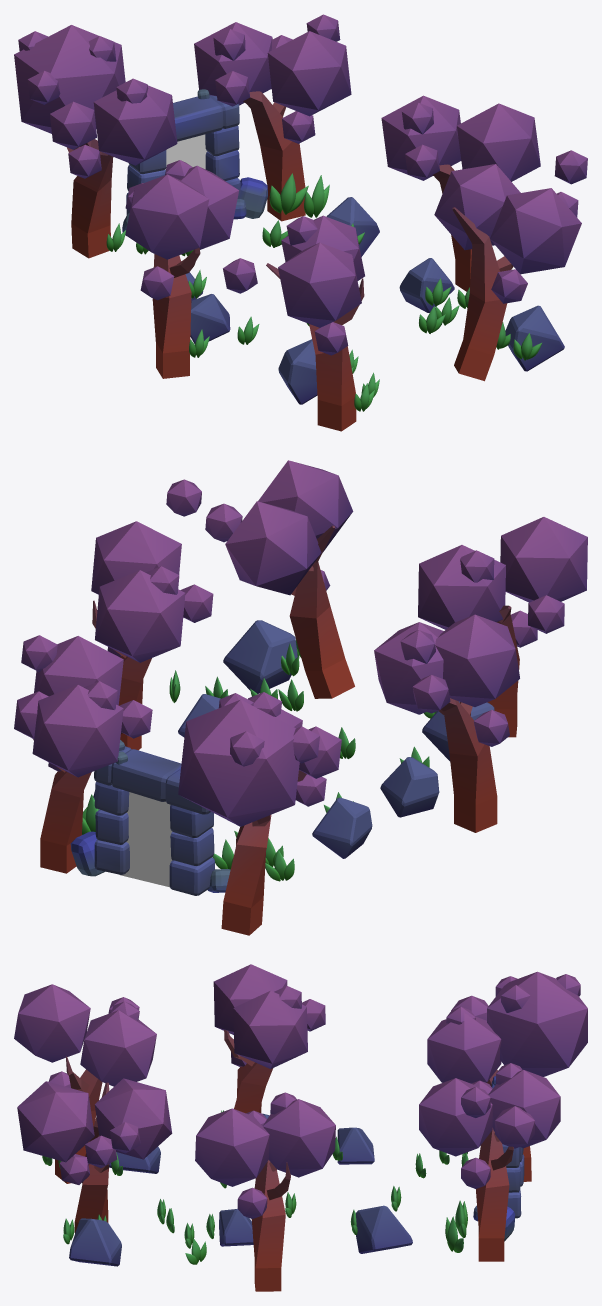
File: ПОЛЕ .fbx
The picture shows the model from 3 angles, top to bottom: view 1: azimuth 30°, elevation 25°; view 2: azimuth 150°, elevation 25°; view 3: azimuth 270°, elevation 25°; orthographic projection. The views are drawn at different scales.
Parts seen in each view (by area): view 1: Icosphere.005, Cube.018, Icosphere.031, Icosphere.001, Icosphere.021, Icosphere.026, Cube.028, Icosphere.004, Icosphere.016, Icosphere.030, Cube.026, Cube.015 (+32 smaller); view 2: Cube.018, Icosphere.005, Icosphere.030, Icosphere.015, Icosphere, Icosphere.026, Icosphere.021, Cube.028, Icosphere.025, Cube.026, Icosphere.031, Cube.017 (+29 smaller); view 3: Icosphere.005, Icosphere.031, Icosphere.020, Icosphere.016, Icosphere.026, Icosphere.025, Icosphere.015, Icosphere.004, Icosphere.030, Icosphere.001, Cube.025, Cube.015 (+22 smaller).
Part boxes in pixels (box(x1,y1,x2,y2)): Icosphere.005: box(14, 25, 125, 133); Cube.018: box(122, 89, 267, 232); Icosphere.031: box(490, 188, 581, 274); Icosphere.001: box(267, 31, 351, 116); Icosphere.021: box(125, 174, 209, 259); Icosphere.026: box(278, 242, 361, 327); Cube.028: box(452, 207, 513, 381); Icosphere.004: box(93, 85, 177, 165); Icosphere.016: box(457, 103, 540, 181); Icosphere.030: box(434, 164, 520, 250); Cube.026: box(152, 247, 200, 378); Cube.015: box(243, 91, 305, 221); Cube.018: box(70, 740, 230, 895); Icosphere.005: box(178, 699, 299, 826); Icosphere.030: box(225, 501, 321, 595); Icosphere.015: box(95, 570, 185, 662); Icosphere: box(32, 685, 123, 777); Icosphere.026: box(500, 517, 587, 602); Icosphere.021: box(435, 614, 519, 706); Cube.028: box(289, 525, 354, 698); Icosphere.025: box(418, 545, 505, 629); Cube.026: box(438, 698, 497, 832); Icosphere.031: box(258, 460, 353, 551); Cube.017: box(221, 770, 306, 935); Icosphere.005: box(487, 971, 587, 1076); Icosphere.031: box(17, 1081, 94, 1162); Icosphere.020: box(233, 990, 307, 1068); Icosphere.016: box(195, 1108, 269, 1186); Icosphere.026: box(14, 984, 90, 1062); Icosphere.025: box(80, 1010, 156, 1086); Icosphere.015: box(262, 1099, 335, 1177); Icosphere.004: box(427, 1012, 501, 1083); Icosphere.030: box(94, 1078, 172, 1159); Icosphere.001: box(419, 1078, 492, 1156); Cube.025: box(251, 1160, 290, 1291); Cube.015: box(476, 1128, 513, 1261).
Size of what is drawn, in the model's own units: 6497 by 3464 by 8907.
